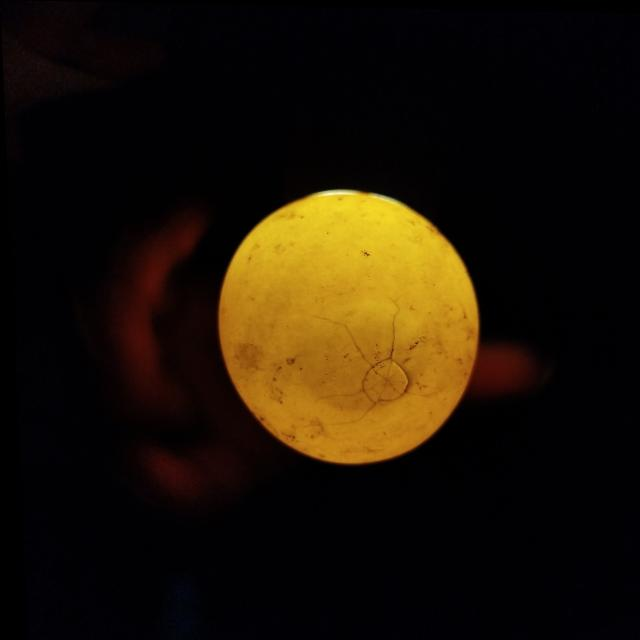Camara de Ar: (296, 302, 422, 409)
Rachadura: (357, 356, 407, 402)
